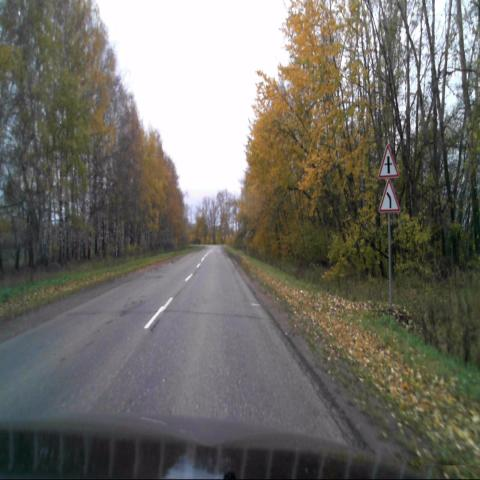1_11_1: (378, 179, 400, 213)
2_3: (378, 145, 399, 178)
